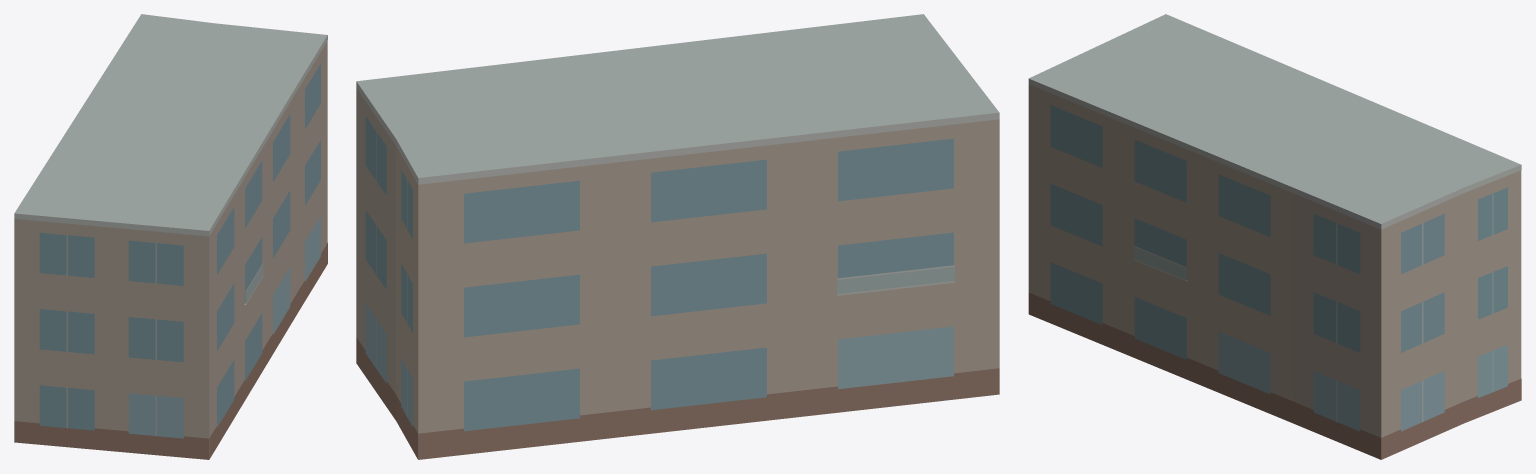
Rendered from survey-upis-32752728.glb.
The picture shows the model from 3 angles, left to right: view 1: azimuth 30°, elevation 25°; view 2: azimuth 150°, elevation 25°; view 3: azimuth 270°, elevation 25°; orthographic projection. The views are drawn at different scales.
Parts seen in each view (by area): view 1: survey-upis-32752728.tmp; view 2: survey-upis-32752728.tmp; view 3: survey-upis-32752728.tmp.
Boxes of the visible parts, x1,y1,x2,y2 form: survey-upis-32752728.tmp: (14,14,327,459); survey-upis-32752728.tmp: (356,14,999,459); survey-upis-32752728.tmp: (1028,14,1521,459).
Bounding box in the file's own units: 19.69 × 10.3 × 19.52.
